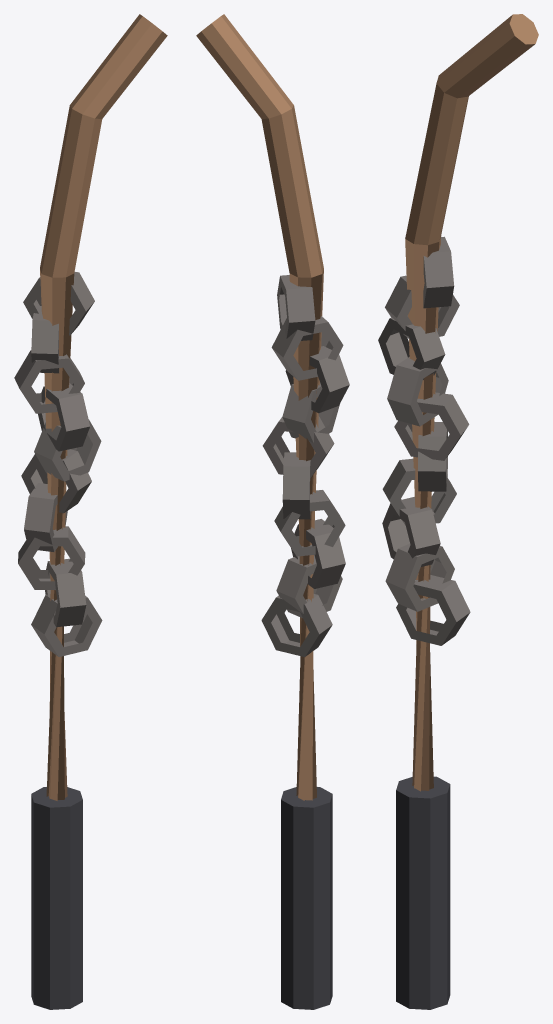
Rendered from varilla.glb.
3 views of the same model, side by side, from view 1: azimuth 30°, elevation 25°; view 2: azimuth 150°, elevation 25°; view 3: azimuth 330°, elevation 25° (orthographic). The views are drawn at different scales.
Visible parts, largest first — view 1: Varilla_malla; view 2: Varilla_malla; view 3: Varilla_malla.
Boxes of the visible parts, <box> form: Varilla_malla: <box>14,14,167,1009</box>; Varilla_malla: <box>196,14,349,1009</box>; Varilla_malla: <box>378,14,538,1009</box>.
Size of the model in its own units: 0.1531 by 0.9513 by 0.0827.
